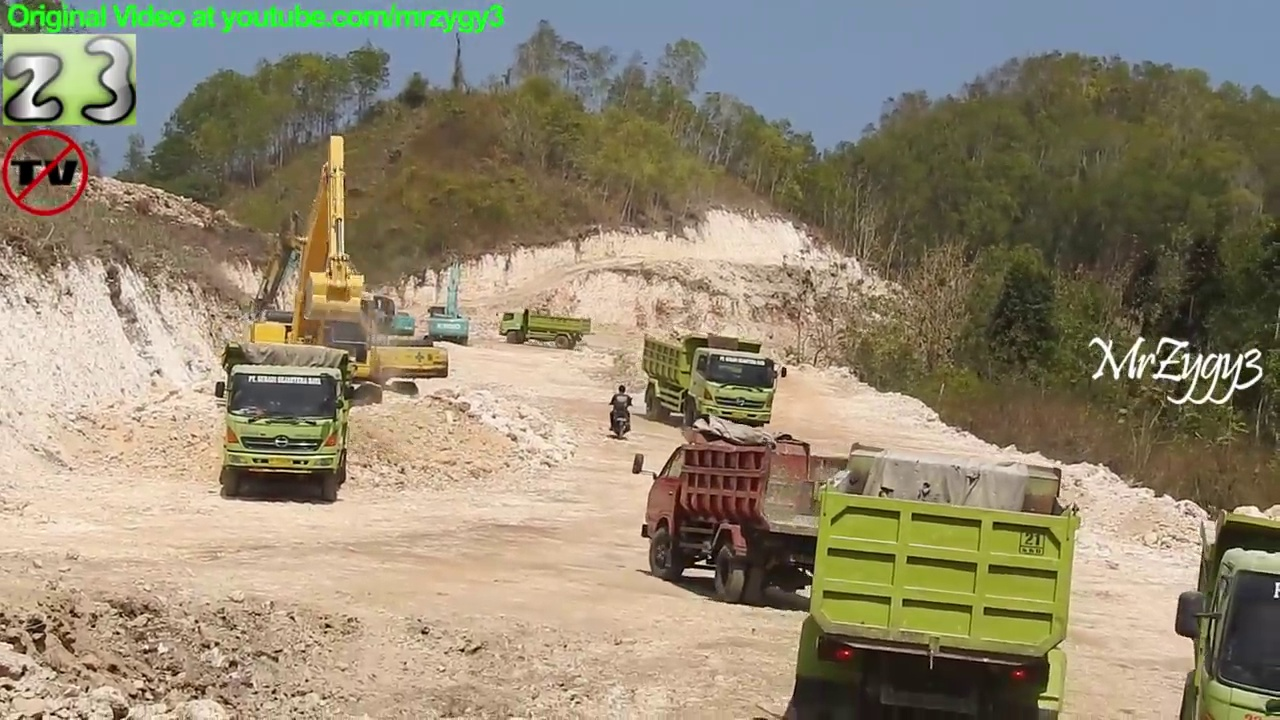excavator: (216, 131, 388, 410), (240, 212, 454, 400), (258, 240, 419, 361), (420, 257, 475, 347)
truck: (778, 440, 1088, 720), (631, 423, 915, 607), (213, 341, 357, 502), (1172, 505, 1280, 717), (640, 330, 788, 434), (496, 306, 595, 351)
